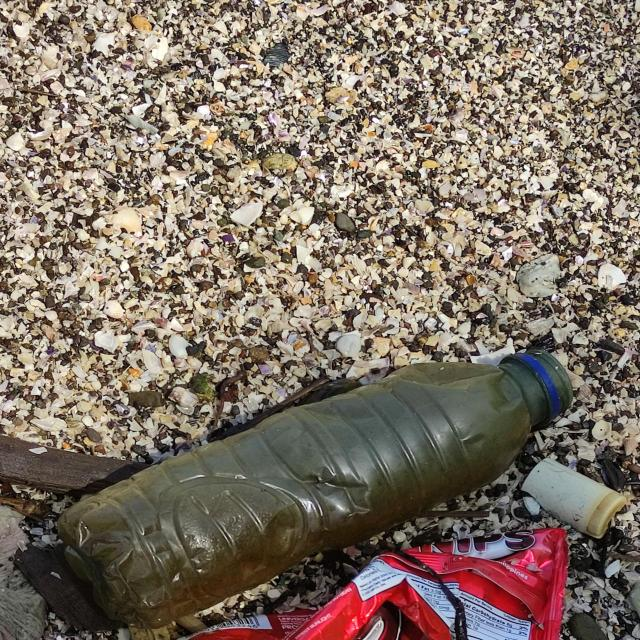plastic_waste: (56, 346, 576, 633), (281, 526, 572, 640)
